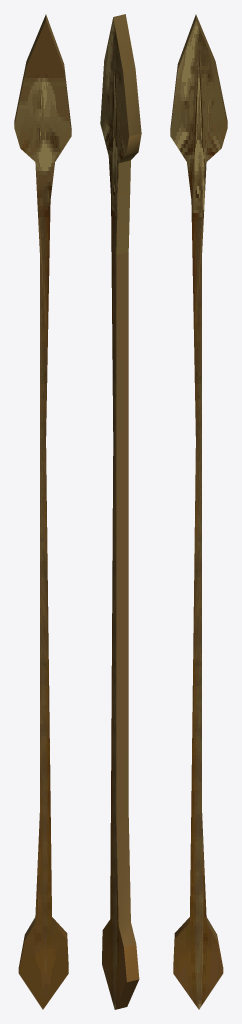
The model's file is lanza.glb.
3 renders of one model, left to right at view 1: azimuth 90°, elevation 25°; view 2: azimuth 210°, elevation 25°; view 3: azimuth 270°, elevation 25°, orthographic.
Visible parts, largest first — view 1: arma.larga.lanza; view 2: arma.larga.lanza; view 3: arma.larga.lanza.
Part boxes in pixels (x1=…): arma.larga.lanza: x1=14, y1=14, x2=71, y2=1009; arma.larga.lanza: x1=100, y1=14, x2=141, y2=1009; arma.larga.lanza: x1=170, y1=14, x2=227, y2=1009.
Size of the model in its own units: 0.0316 by 2.4 by 0.1267.
1 material, 1 textured.
